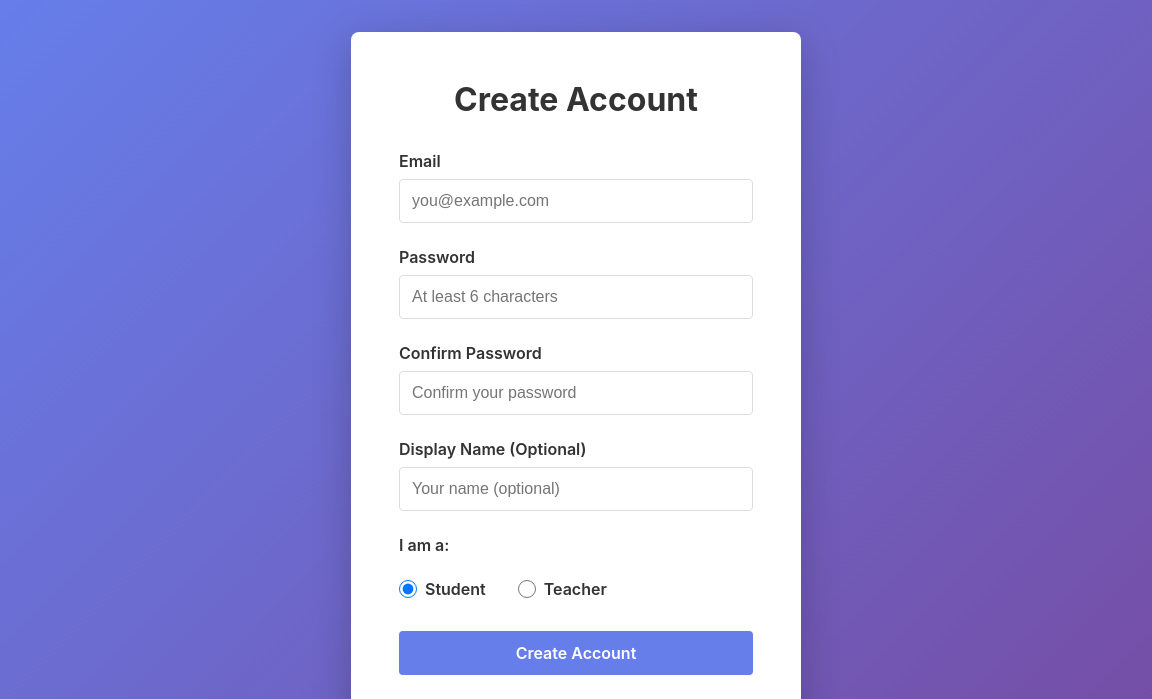
Test: RegisterPage Component › Form Validation › should enforce minimum password length
Type "test@example.com" into the field labelled "Email" at (576,201), box [399, 179, 753, 223]
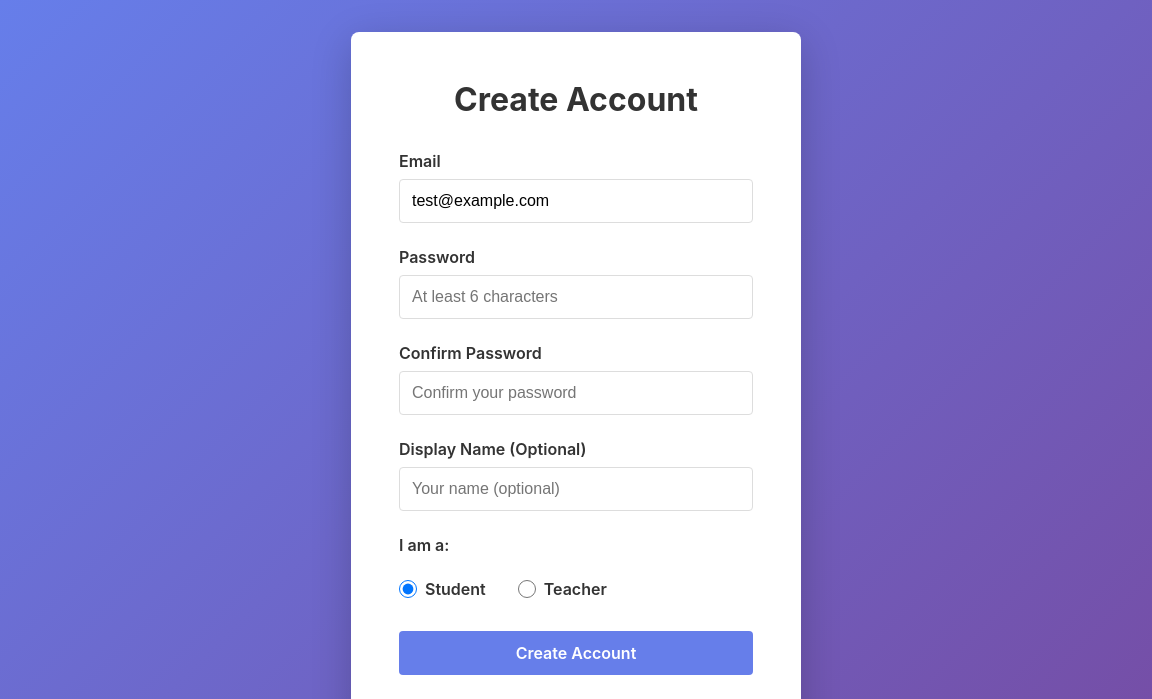
Type "12345" into the password field labelled "Password" at (576,297), box [399, 275, 753, 319]
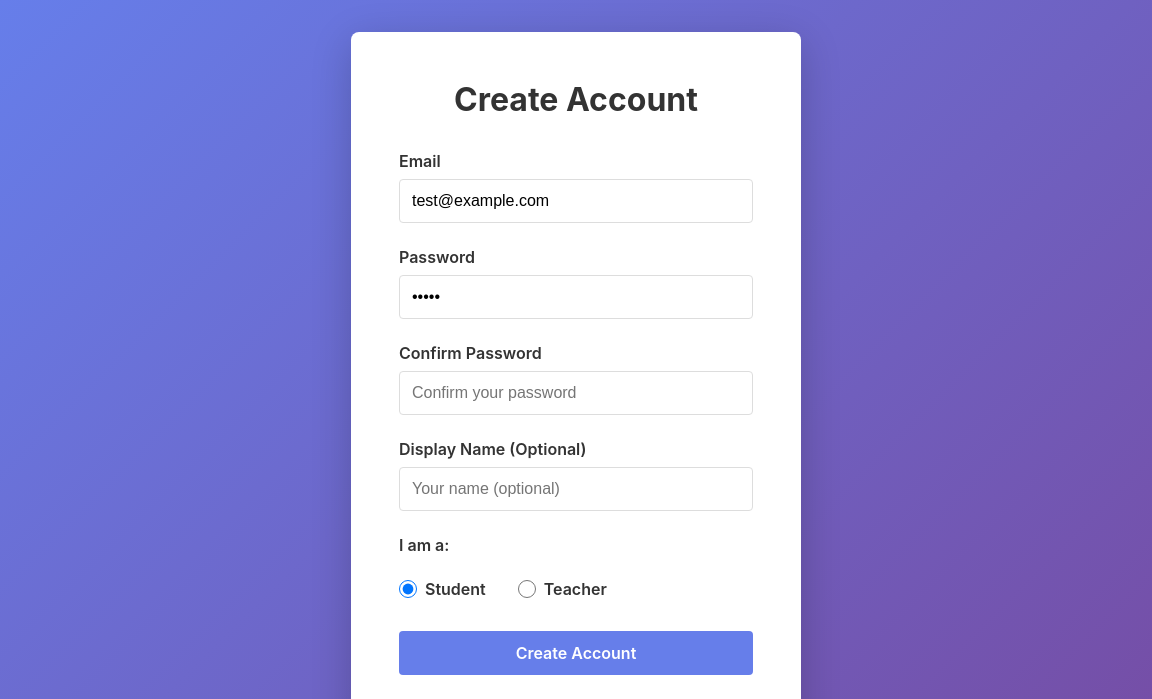
Type "12345" into the password field labelled "Confirm Password" at (576,393), box [399, 371, 753, 415]
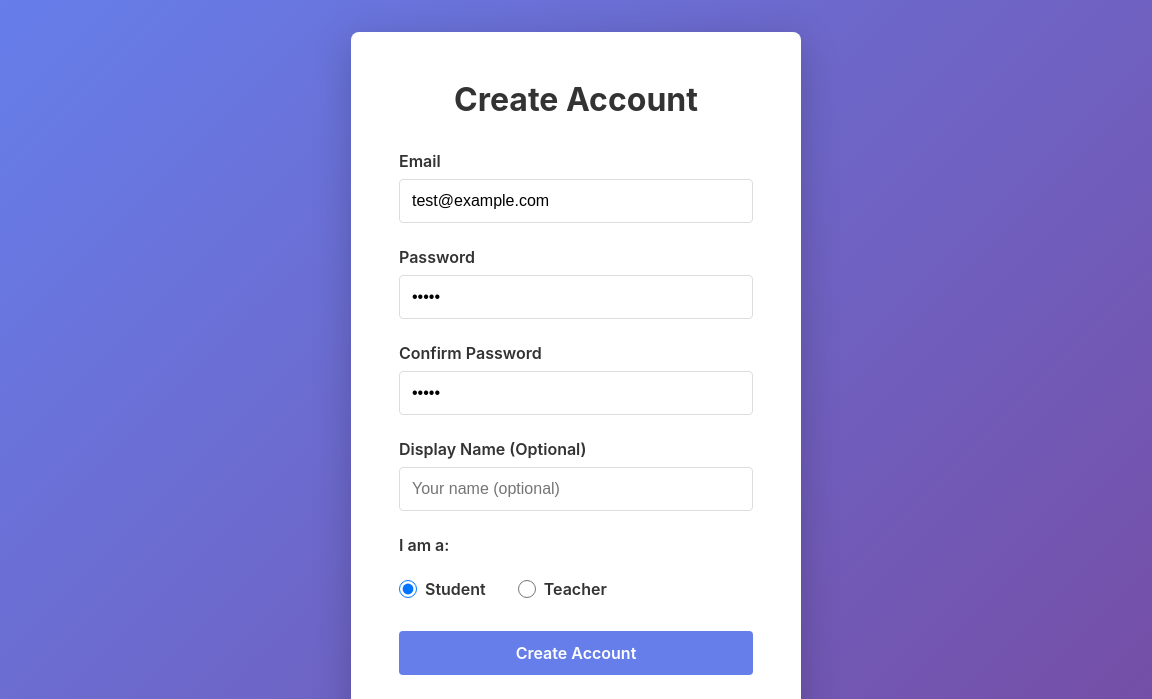
Click the button "Create Account" at (576,653), box [399, 631, 753, 675]
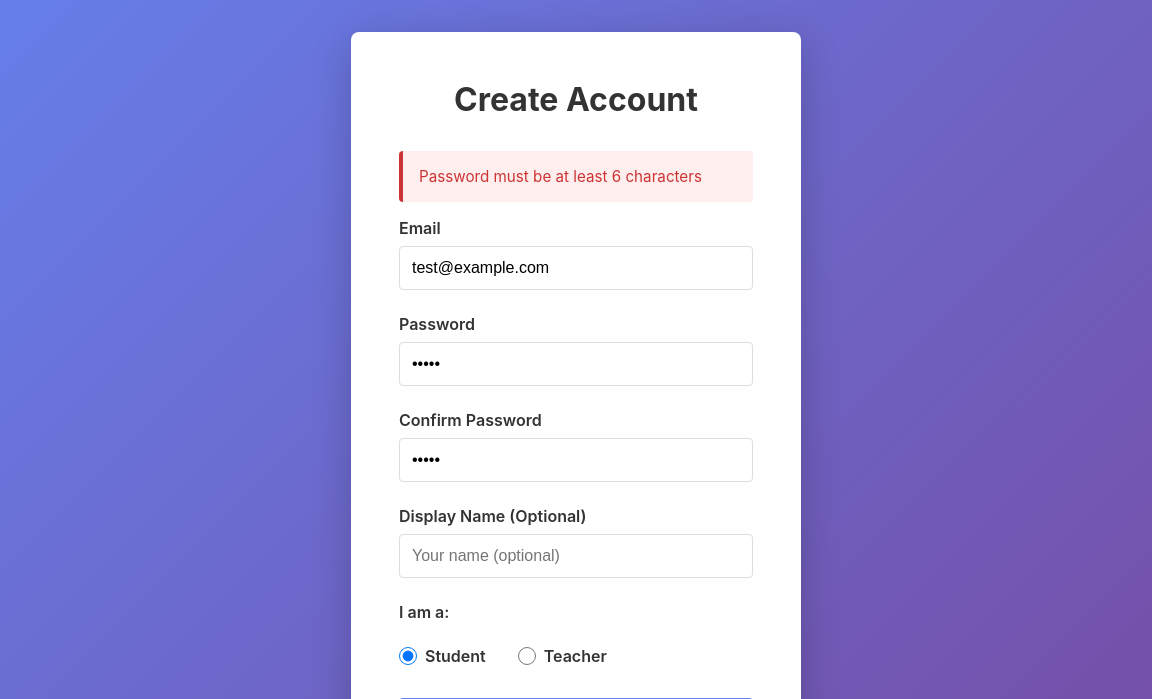
Expected: the text "Password must be at least 6 characters" is shown, [399, 151, 753, 202]
